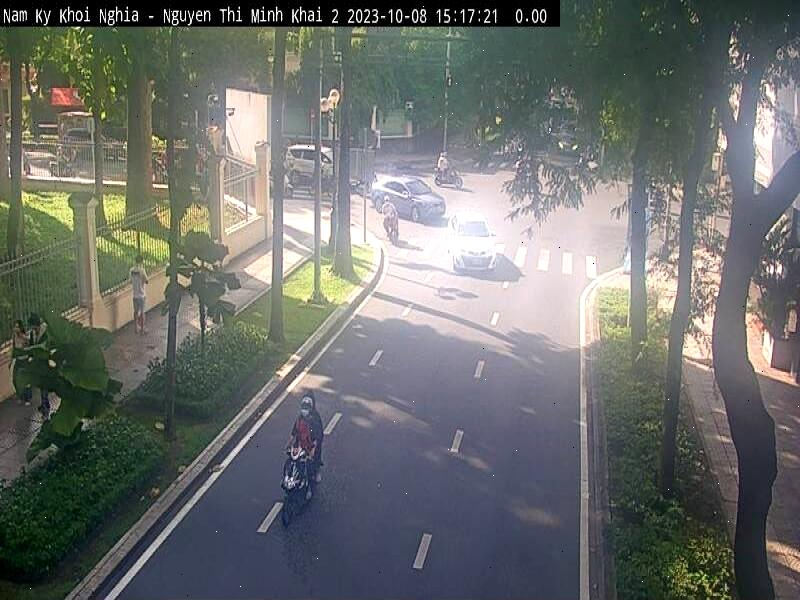car: (374, 178, 444, 226), (448, 212, 498, 272)
motorcycle: (280, 444, 328, 524)
